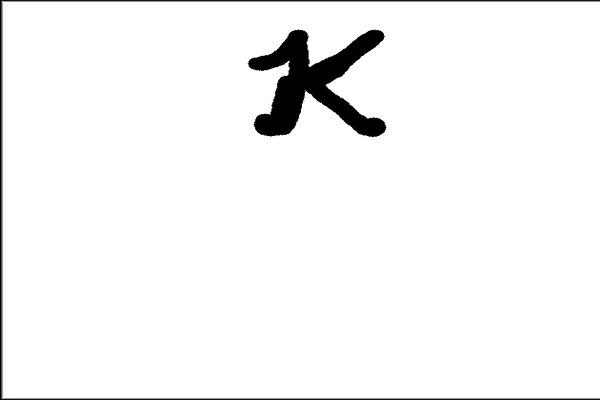K: (244, 18, 393, 145)
